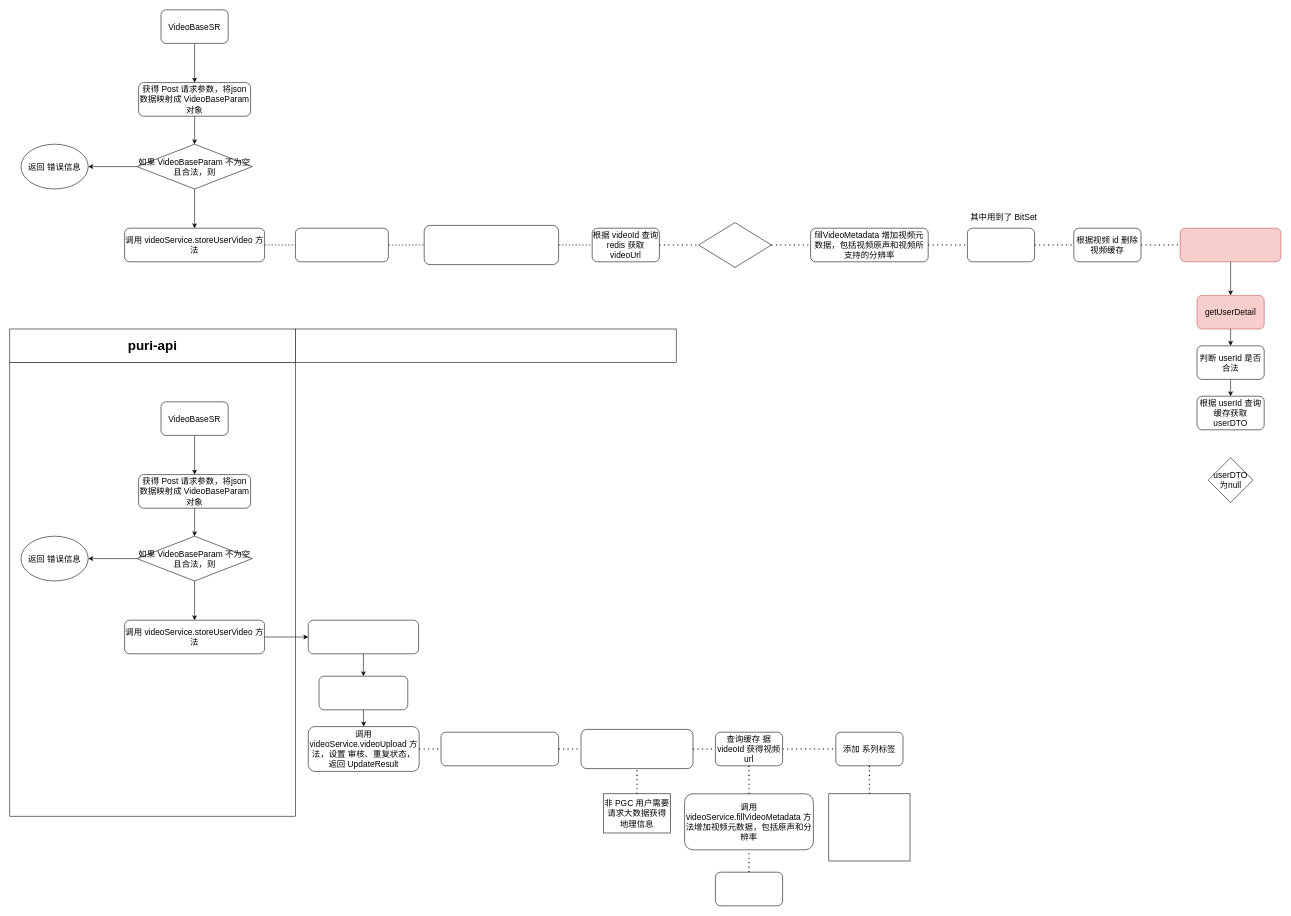
Some shapes in this 1291 by 916 pixel diagram are drawn without their labels. Each missing label, with the centre of its shape:
"puri-video-new-mt" goes at [485,345].
"setAuditStatus" goes at [1001,245].
"updateForWhiteListUser" goes at [1230,245].
"videoUrl 合法" goes at [734,244].
"将 userVideoParam 转为 VideoUploadParam" goes at [341,245].
"检查 videoUploadParam" goes at [363,693].
"比如 白名单标签和认证标签，其中含有 ssss_rozbuzz 标签的需要添加 ssss_whitelist 标签" goes at [869,827].
"请求 大数据判重" goes at [749,889].
"调用 contentPoolService. genDocId(userVideo.getVideoId())根据 videoId 生成 DocId" goes at [491,245].
"调用 poolService.genVideoDocId 据videoId生成 docId" goes at [499,749].
"调用 userService.getUserInfo 据 userId 获得用户信息" goes at [636,749].
"调用 videoUpload 方法，入参将 videoBaseParam 转为 videoUploadParam" goes at [363,637].
